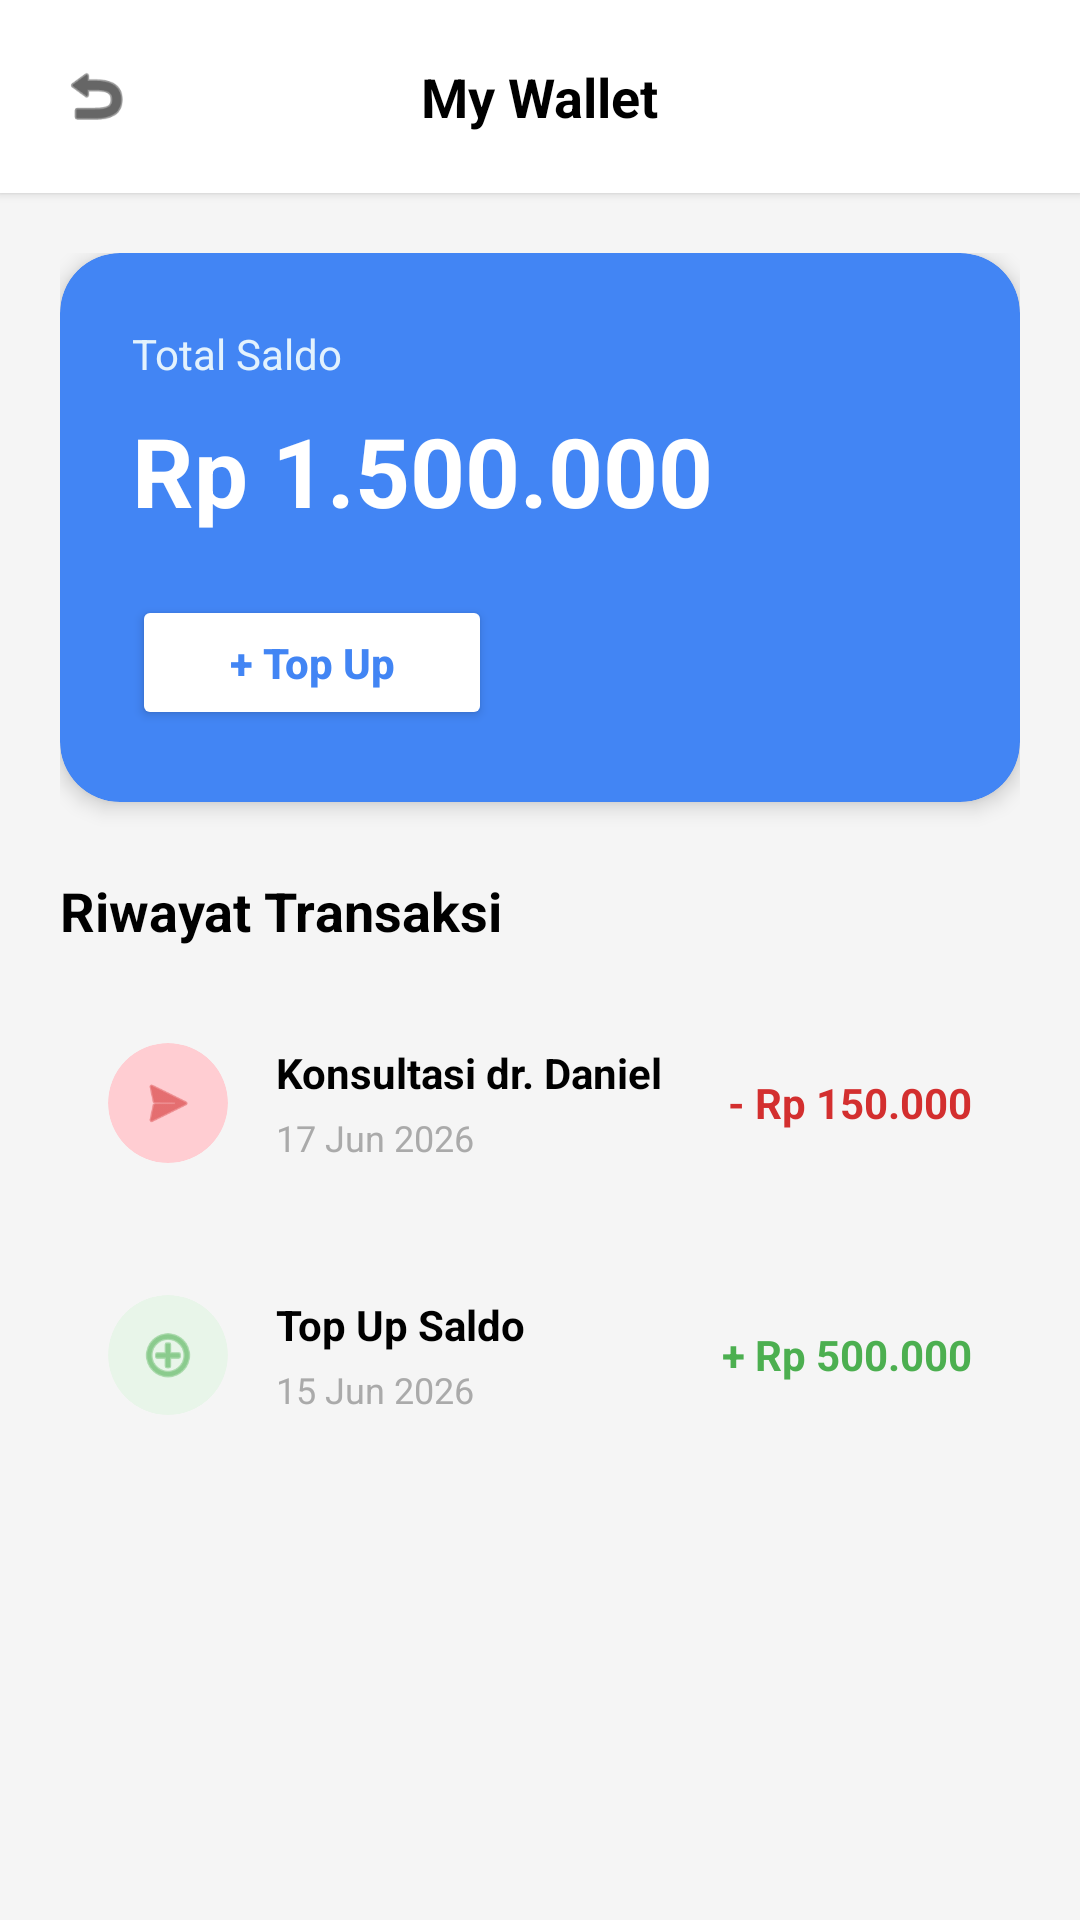

Screen size 1080px×1920px. Icon name, then its center in pixels as point (x, y):
add: point (168, 1355)
revert: point (97, 96)
send: point (168, 1103)
